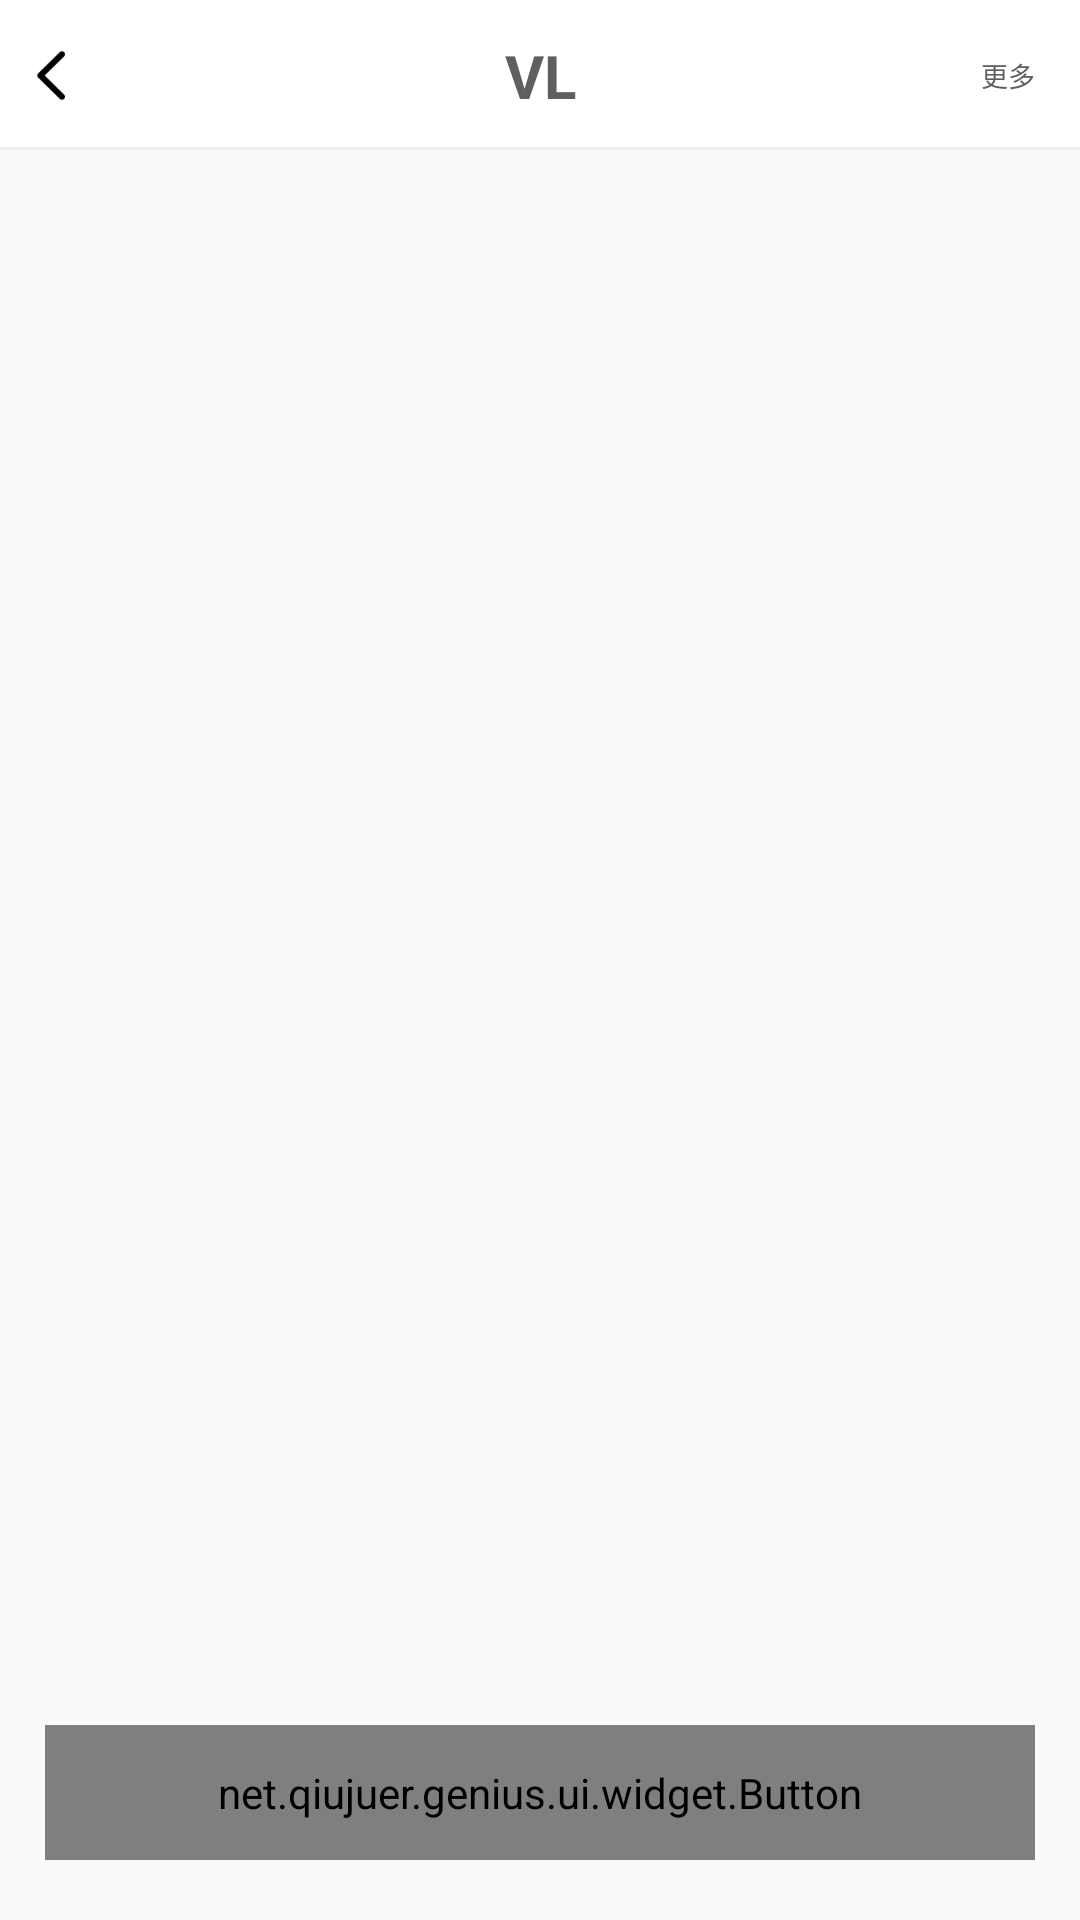

Point at icon controls on the screen. Image size 1080px×1920px, points as (x,y).
back: (51,75)
